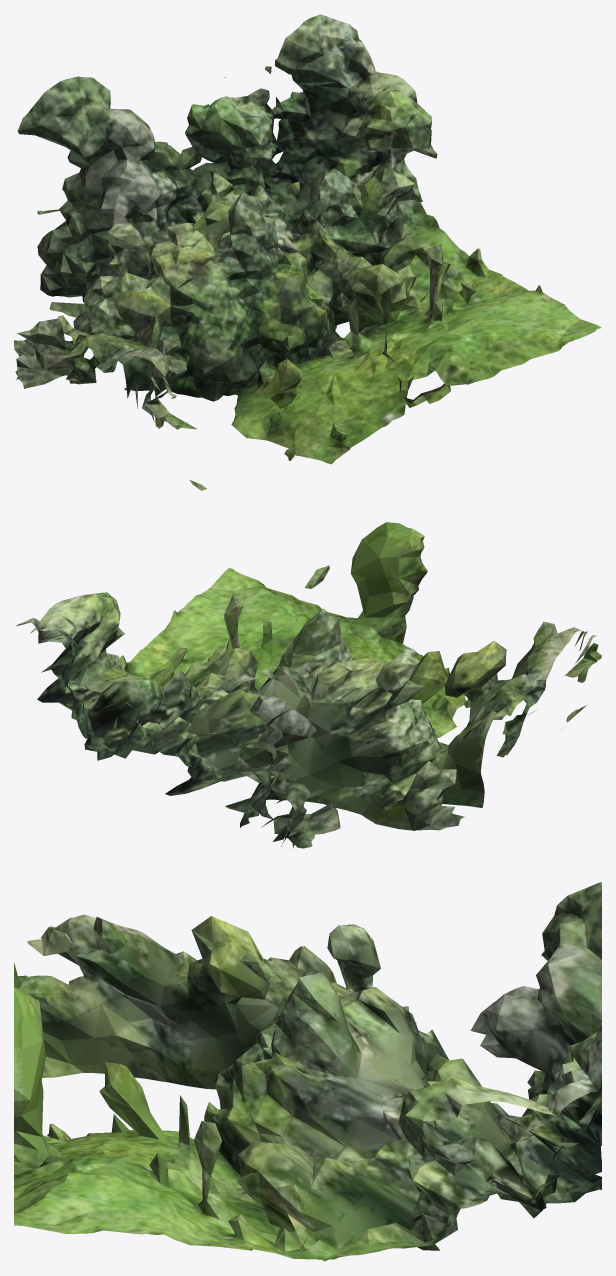
The picture shows the model from 3 angles, top to bottom: view 1: azimuth 30°, elevation 25°; view 2: azimuth 150°, elevation 25°; view 3: azimuth 270°, elevation 25°; orthographic projection. The views are drawn at different scales.
Bounding box in the file's own units: 52.22 × 25.22 × 52.22.
Materials: 5 (5 with a texture image).
